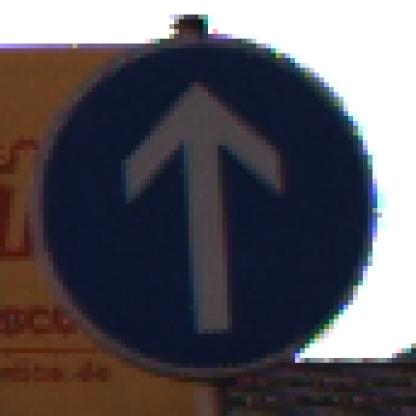AheadOnly: (40, 35, 383, 378)
